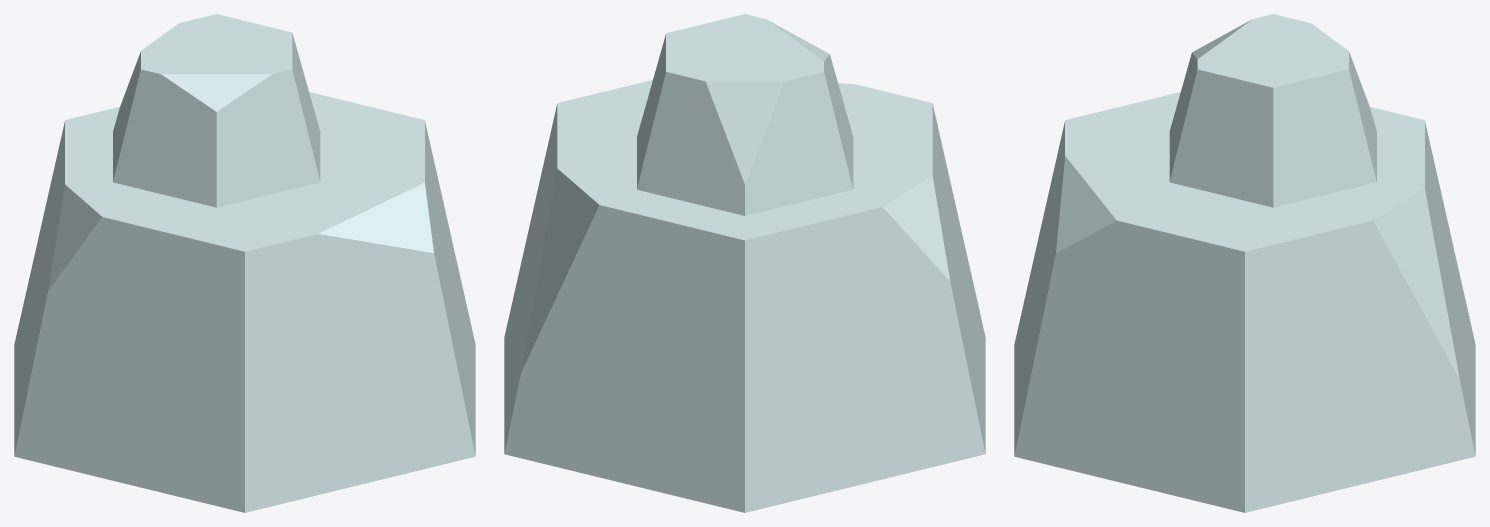
The model's file is stone_smallE.glb.
The picture shows the model from 3 angles, left to right: view 1: azimuth 30°, elevation 25°; view 2: azimuth 150°, elevation 25°; view 3: azimuth 270°, elevation 25°; orthographic projection. The views are drawn at different scales.
Visible parts, largest first — view 1: stone_smallE; view 2: stone_smallE; view 3: stone_smallE.
Part boxes in pixels (x1,y1,x2,y2): stone_smallE: (14, 14, 475, 512); stone_smallE: (504, 14, 985, 512); stone_smallE: (1014, 14, 1475, 512).
Bounding box in the file's own units: 0.3608 × 0.2562 × 0.3125.
1 material, 1 textured.
